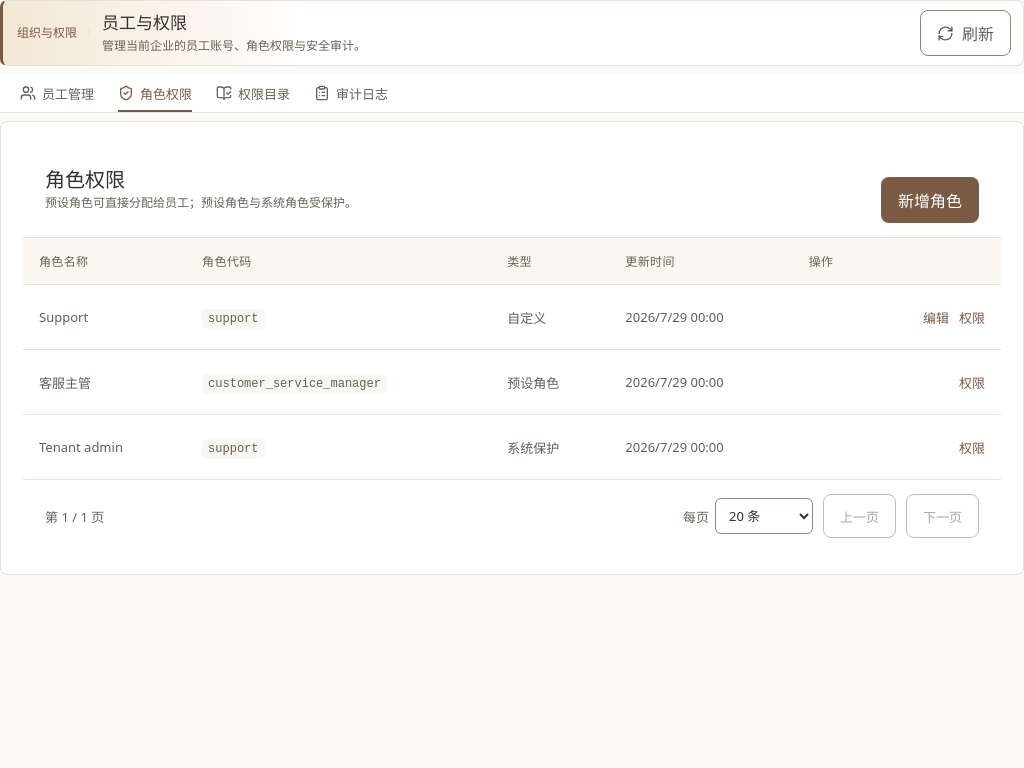
IAM console assignment and session loops › 标记预设角色并保护固定权限矩阵
This screenshot has width=1024, height=768.
expect the text "预设角色" is shown: met, box [491,350,609,414]
Click the button "权限" in the row of "客服主管". click: {"x": 972, "y": 382}
box: [959,364,985,400]
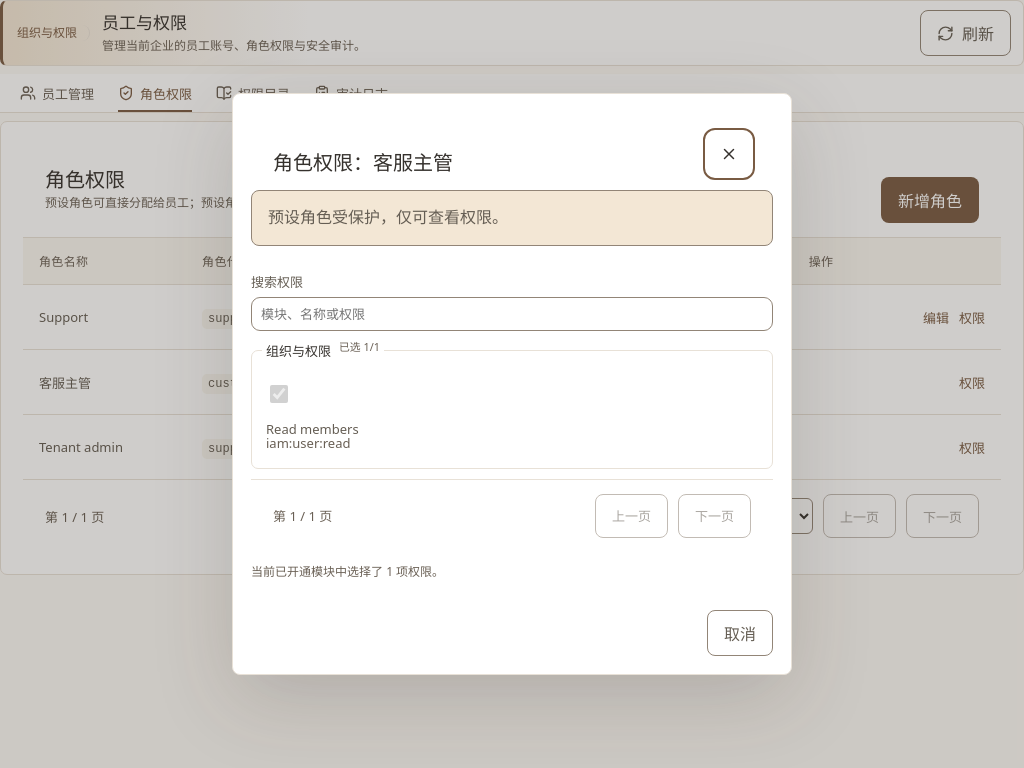
expect the text "预设角色受保护，仅可查看权限。" is shown: met, box [251,190,773,246]
